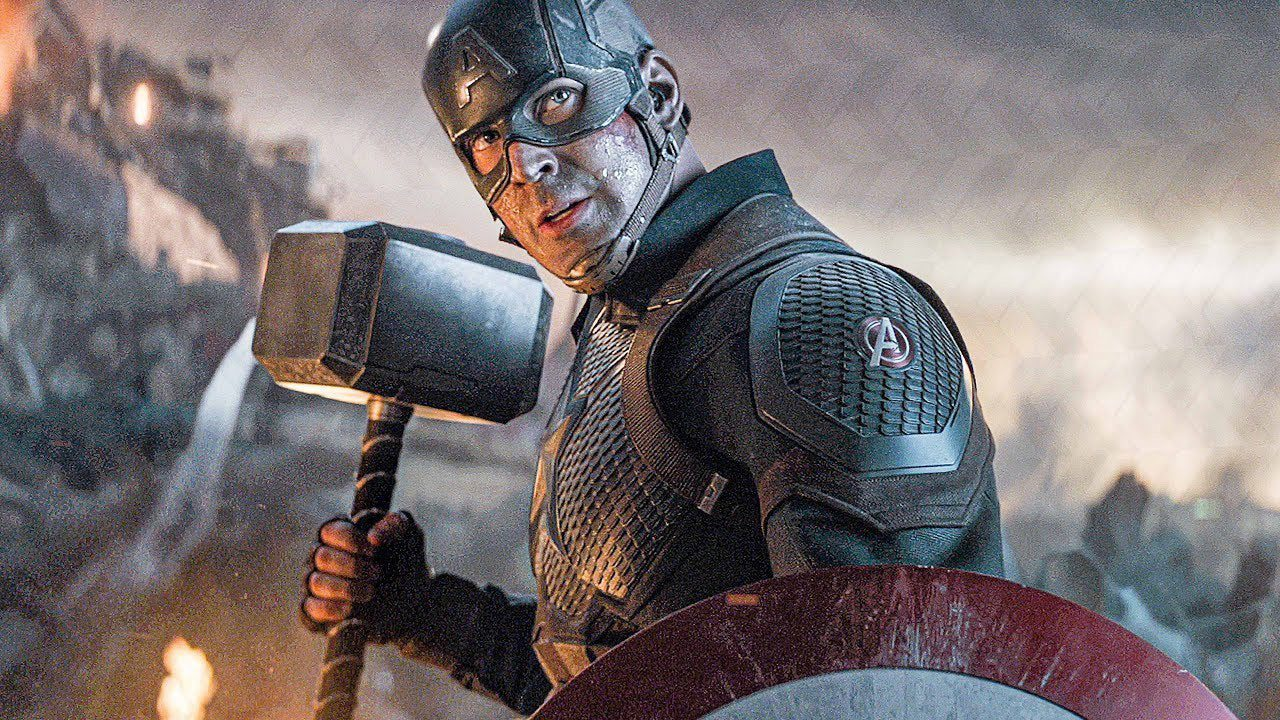THOR Hammer: (243, 226, 558, 669)
